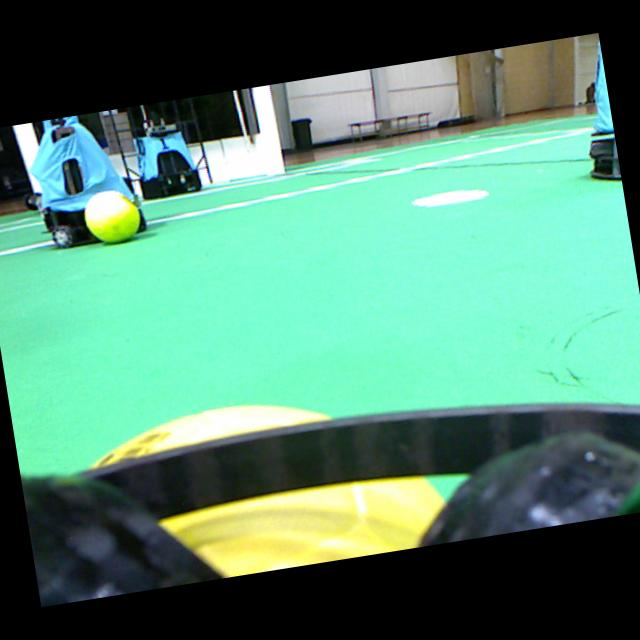ball: (91, 407, 446, 577), (84, 190, 139, 242)
goal: (252, 85, 284, 174), (12, 123, 41, 192)
